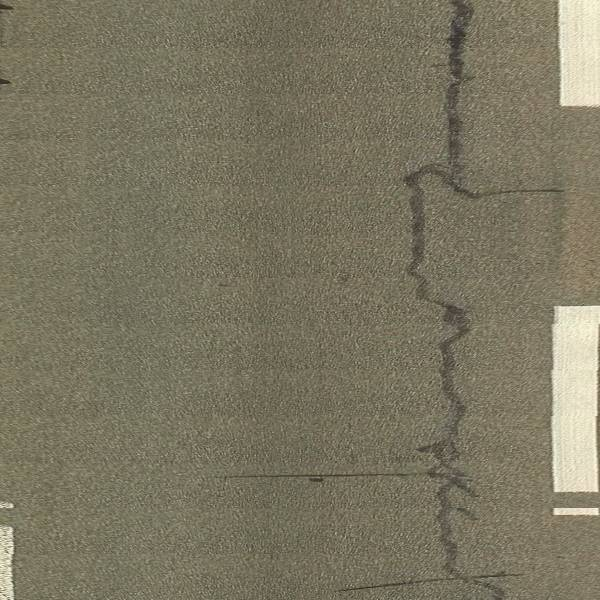road_damage: (397, 3, 488, 593)
